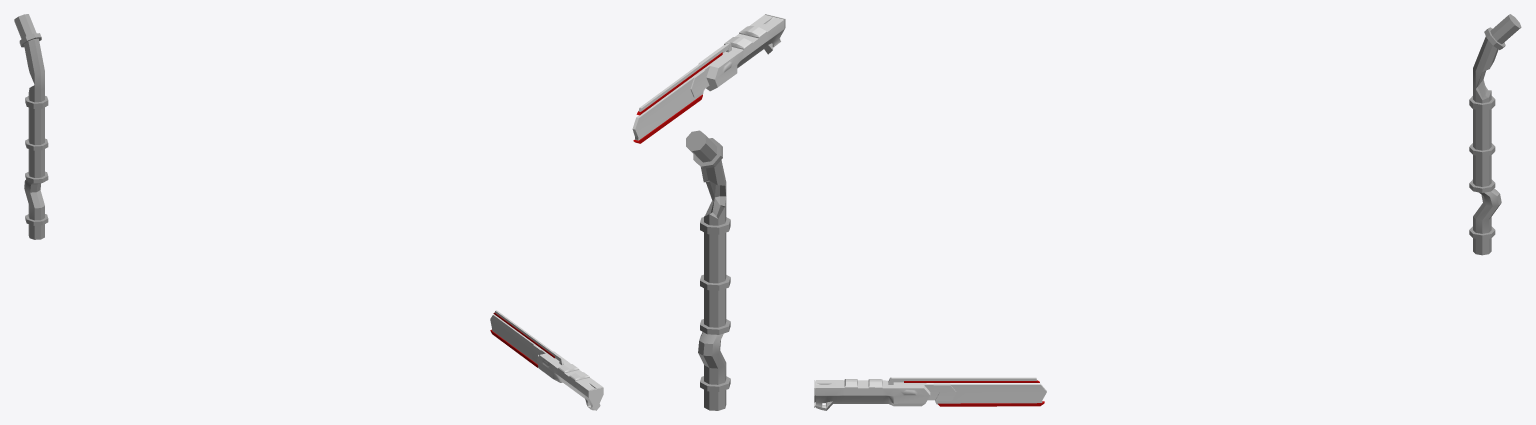
Rendered from WEAPONS.fbx.
The picture shows the model from 3 angles, left to right: view 1: azimuth 30°, elevation 25°; view 2: azimuth 150°, elevation 25°; view 3: azimuth 270°, elevation 25°; orthographic projection. The views are drawn at different scales.
Visible parts, largest first — view 1: Tube_Weapon, Knife1_Weapon; view 2: Tube_Weapon, Knife1_Weapon, LightKnife1, LightKnife; view 3: Knife1_Weapon, Tube_Weapon.
Part boxes in pixels (x1,y1,x2,y2): Tube_Weapon: [14, 14, 48, 239]; Knife1_Weapon: [490, 310, 603, 410]; Tube_Weapon: [686, 130, 730, 410]; Knife1_Weapon: [632, 14, 785, 140]; LightKnife1: [633, 94, 702, 143]; LightKnife: [636, 52, 722, 115]; Knife1_Weapon: [814, 377, 1046, 410]; Tube_Weapon: [1469, 14, 1521, 255].
Bounding box in the file's own units: 307 × 247 × 617.
